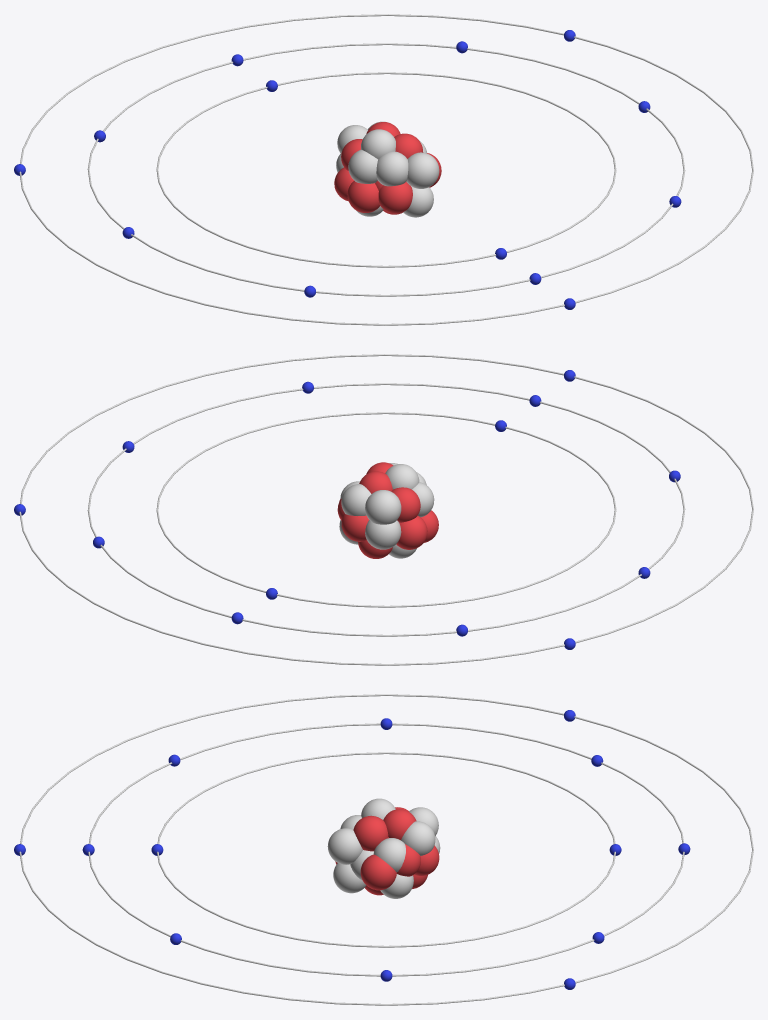
Rendered from Aluminium.glb.
The picture shows the model from 3 angles, top to bottom: view 1: azimuth 30°, elevation 25°; view 2: azimuth 150°, elevation 25°; view 3: azimuth 270°, elevation 25°; orthographic projection.
Visible parts, largest first — view 1: M-Schale, L-Schale, K-Schale, Neutron 13, Neutron 10, Proton 10, Proton 7, Neutron 7, Neutron 11, Neutron 14; view 2: M-Schale, L-Schale, K-Schale, Neutron 9, Neutron 8, Proton 8, Neutron 12, Proton 9, Neutron 11, Proton 12, Proton 6; view 3: M-Schale, L-Schale, K-Schale, Neutron 13, Proton 11, Proton 13, Neutron 12, Neutron 6, Proton 6, Neutron 14, Neutron 5.
Part boxes in pixels (x1,y1,x2,y2): M-Schale: (19,14,753,325); L-Schale: (87,43,685,296); K-Schale: (156,72,616,267); Neutron 13: (406,152,439,188); Neutron 10: (376,151,408,186); Proton 10: (378,181,412,213); Proton 7: (347,180,379,212); Neutron 7: (348,149,377,183); Neutron 11: (361,129,395,159); Neutron 14: (403,186,433,217); M-Schale: (19,354,753,665); L-Schale: (87,383,685,636); K-Schale: (156,412,616,607); Neutron 9: (365,490,401,524); Neutron 8: (365,520,401,549); Proton 8: (396,515,427,549); Neutron 12: (341,484,371,515); Proton 9: (391,487,420,522); Neutron 11: (385,464,419,489); Proton 12: (341,513,368,541); Proton 6: (359,471,392,493); M-Schale: (19,694,753,1005); L-Schale: (88,723,684,976); K-Schale: (157,752,615,947); Neutron 13: (327,828,362,864); Proton 11: (360,854,396,890); Proton 13: (353,815,388,851); Neutron 12: (401,821,435,855); Neutron 6: (373,838,405,872); Proton 6: (383,809,416,840); Neutron 14: (333,863,366,893); Neutron 5: (380,874,413,898).
Size of the model in its own units: 16.04 by 2.09 by 16.15.
